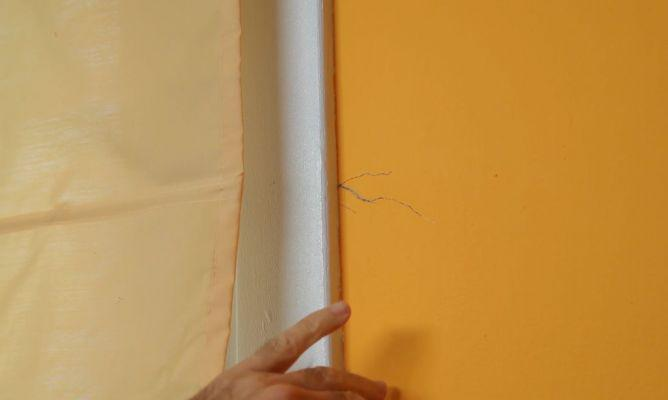crack: (338, 171, 422, 216)
